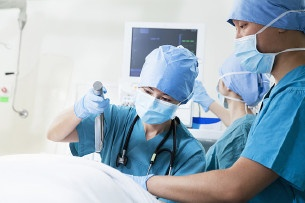Mask: (136, 79, 180, 123)
